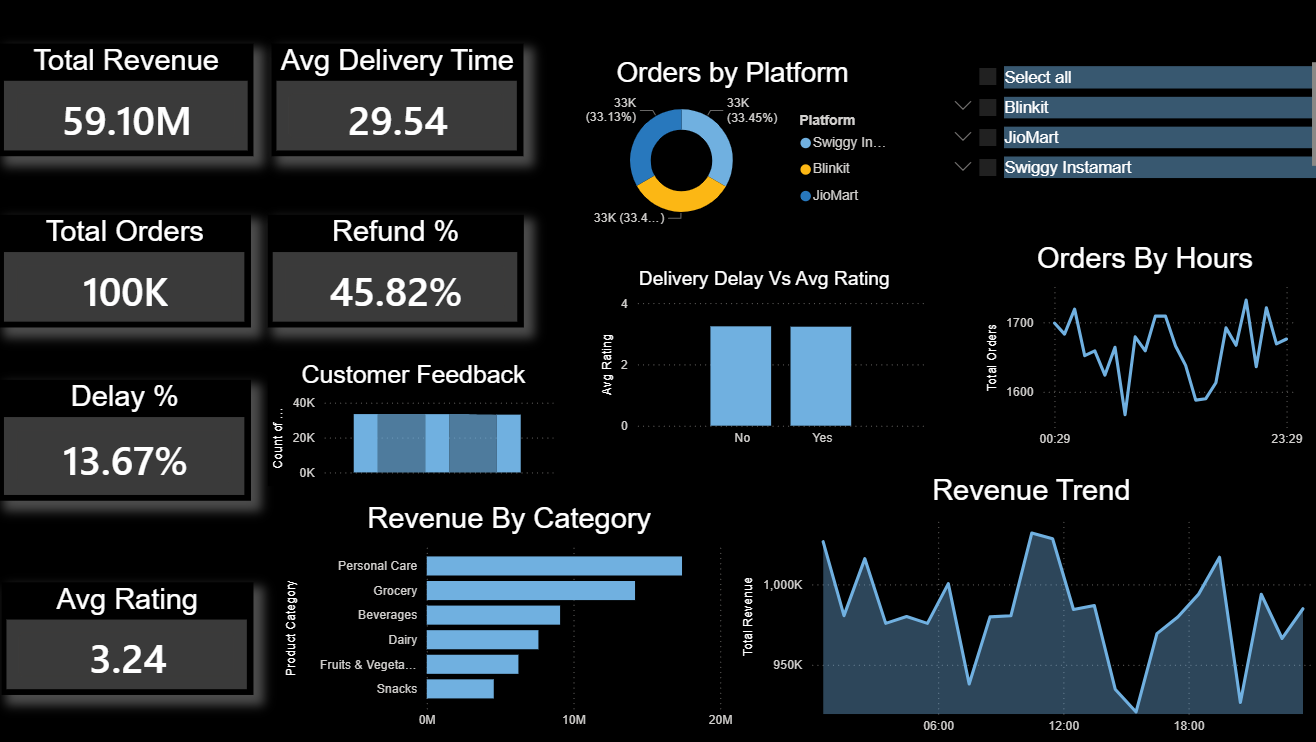

What the dashboard file says about the page in this screenshot:
{"tool":"powerbi","page":{"name":"Page 1","canvas":[1280,720],"ordinal":0},"visuals":[{"type":"cardVisual","title":"Total Orders","fields":{"Data":["Ecommerce_Delivery_Analytics_New.Total Orders"]},"box":[0,211.3,242.9,108.4],"z":0},{"type":"cardVisual","title":"Total Revenue","fields":{"Data":["Ecommerce_Delivery_Analytics_New.Total Revenue"]},"box":[0,45.3,245.6,108.4],"z":1000},{"type":"cardVisual","title":"Avg Delivery Time","fields":{"Data":["Ecommerce_Delivery_Analytics_New.Avg Delivery Time"]},"box":[263.5,45.3,242.9,108.4],"z":2000},{"type":"cardVisual","title":"Avg Rating","fields":{"Data":["Ecommerce_Delivery_Analytics_New.Avg Rating"]},"box":[2.7,565.4,242.9,108.4],"z":3000},{"type":"cardVisual","title":"Refund %","fields":{"Data":["Ecommerce_Delivery_Analytics_New.Refund %"]},"box":[259.3,211.3,247,108.4],"z":4000},{"type":"cardVisual","title":"Delay %","fields":{"Data":["Ecommerce_Delivery_Analytics_New.Delay %"]},"box":[0,370.5,242.9,116.6],"z":5000},{"type":"donutChart","title":" Orders by Platform","fields":{"Category":["Ecommerce_Delivery_Analytics_New.Platform"],"Y":["Ecommerce_Delivery_Analytics_New.Total Orders"]},"box":[540.7,59,334.8,170.2],"z":6000},{"type":"clusteredBarChart","title":"Revenue By Category","fields":{"Category":["Ecommerce_Delivery_Analytics_New.Product Category"],"Y":["Ecommerce_Delivery_Analytics_New.Total Revenue"]},"box":[271.7,487.1,441.9,227.8],"z":7000},{"type":"lineChart","title":"Orders By Hours","fields":{"Y":["Ecommerce_Delivery_Analytics_New.Total Orders"],"Category":["Ecommerce_Delivery_Analytics_New.Order Date & Time.2"]},"box":[948.2,236,315.6,207.2],"z":7001},{"type":"areaChart","title":"Revenue Trend","fields":{"Category":["Ecommerce_Delivery_Analytics_New.Order Date & Time.2"],"Y":["Ecommerce_Delivery_Analytics_New.Total Revenue"]},"box":[713.6,461.1,566.7,259.3],"z":7002},{"type":"clusteredColumnChart","title":"Delivery Delay Vs Avg Rating","fields":{"Y":["Ecommerce_Delivery_Analytics_New.Avg Rating"],"Category":["Ecommerce_Delivery_Analytics_New.Delivery Delay"]},"box":[576.3,262.1,323.8,181.1],"z":7003},{"type":"slicer","fields":{"Values":["Ecommerce_Delivery_Analytics_New.Platform","Ecommerce_Delivery_Analytics_New.Product Category","Ecommerce_Delivery_Analytics_New.Order Date & Time.2"]},"box":[909.8,59,370.5,122.1],"z":7004},{"type":"ribbonChart","title":"Customer Feedback","fields":{"Y":["CountNonNull(Ecommerce_Delivery_Analytics_New.Customer Feedback)"],"Category":["Ecommerce_Delivery_Analytics_New.Platform"]},"box":[259.3,352.7,281.3,120.8],"z":7005}]}

Visuals, with their boxes in screenshot pixels (x1, y1, x2, y2), scaled from the page's 1280x720 canvas onto the 1316x742 screenshot:
"Total Orders" cardVisual: box(0, 218, 250, 329)
"Total Revenue" cardVisual: box(0, 47, 253, 158)
"Avg Delivery Time" cardVisual: box(271, 47, 521, 158)
"Avg Rating" cardVisual: box(3, 583, 253, 694)
"Refund %" cardVisual: box(267, 218, 521, 329)
"Delay %" cardVisual: box(0, 382, 250, 502)
" Orders by Platform" donutChart: box(556, 61, 900, 236)
"Revenue By Category" clusteredBarChart: box(279, 502, 734, 737)
"Orders By Hours" lineChart: box(975, 243, 1299, 457)
"Revenue Trend" areaChart: box(734, 475, 1315, 741)
"Delivery Delay Vs Avg Rating" clusteredColumnChart: box(593, 270, 925, 457)
slicer - Ecommerce_Delivery_Analytics_New.Platform x Ecommerce_Delivery_Analytics_New.Product Category: box(935, 61, 1315, 187)
"Customer Feedback" ribbonChart: box(267, 363, 556, 488)
